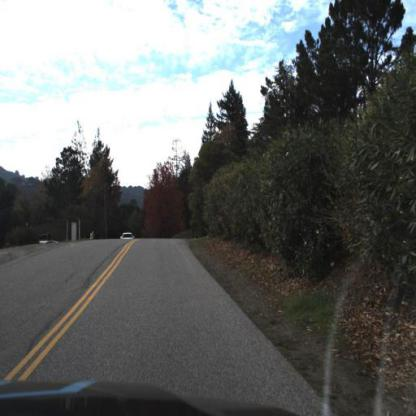car: (116, 222, 143, 251), (122, 230, 136, 245)
